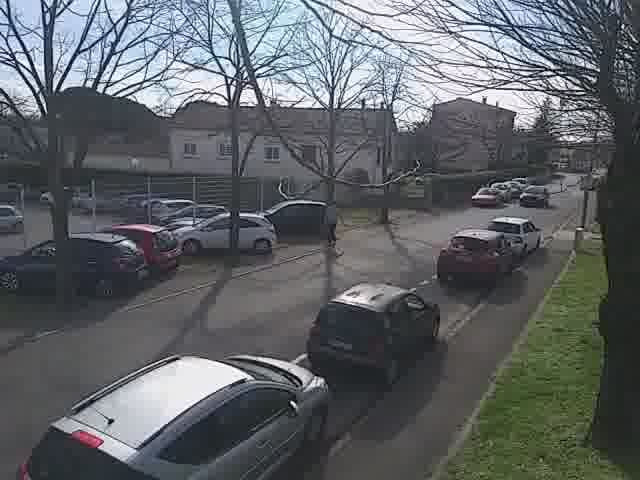persona: (322, 193, 344, 251)
